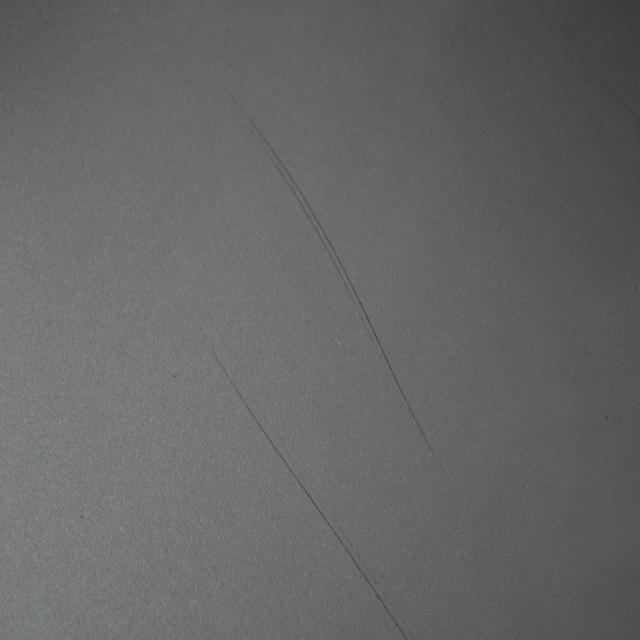scratch: (214, 70, 447, 481), (203, 325, 411, 640), (567, 41, 640, 134)
